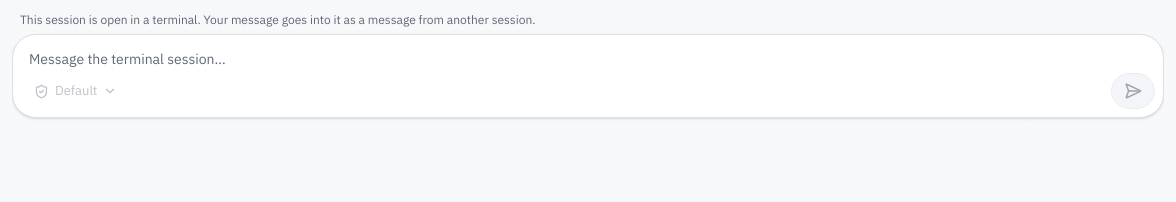
Scenario: Stop waiting unlocks remote recovery and a deliberate resend is a new command
Later steps or results of the test are not shown.
Step 1. Type "Fixture reply" into the text box named "Reply to session" → (588, 54), box [13,35,1163,73]
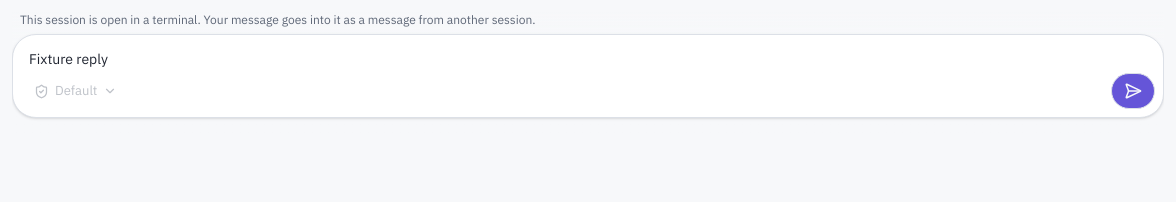
Step 2. Click the button named "Send to the terminal session" → (1133, 91), box [1111,73,1155,109]
Wait 10 ms
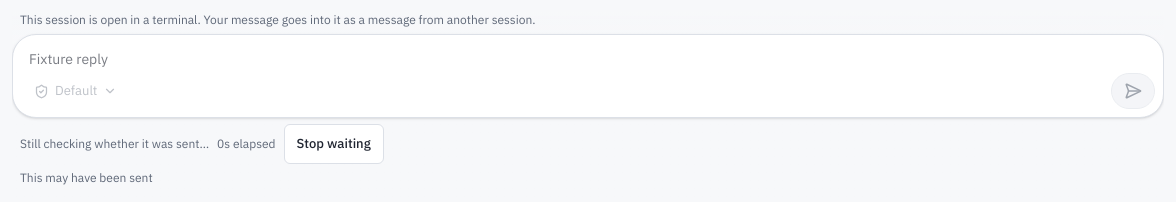
Step 3. Click the button "Stop waiting" → (334, 144), box [284,124,384,164]
Wait 10 ms
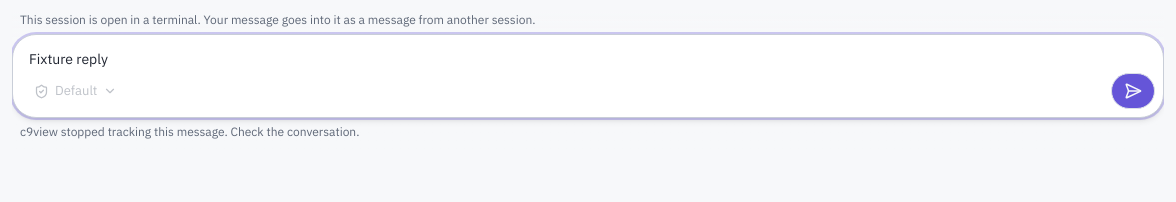
Now the text box is enabled, box [13,35,1163,73]
